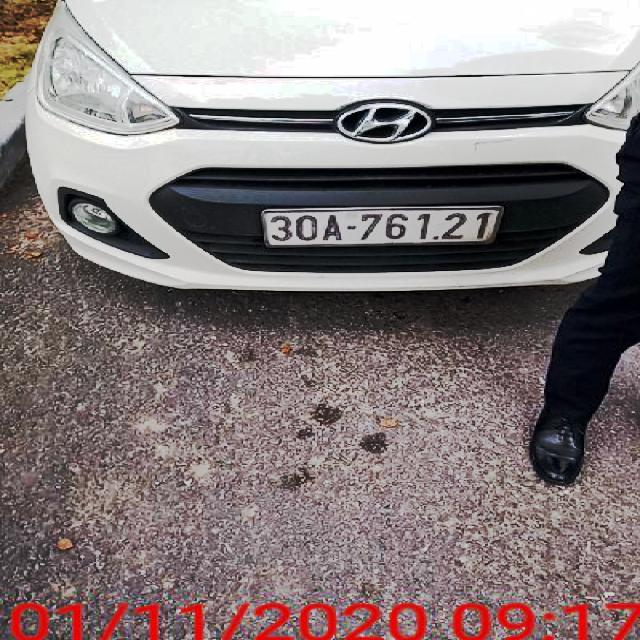license_plate: (266, 206, 504, 246)
